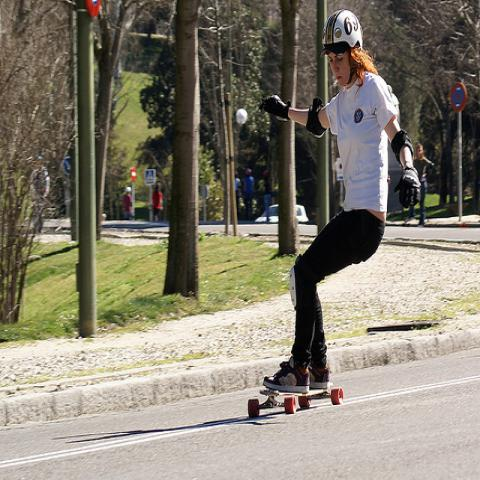car: (255, 203, 309, 223)
